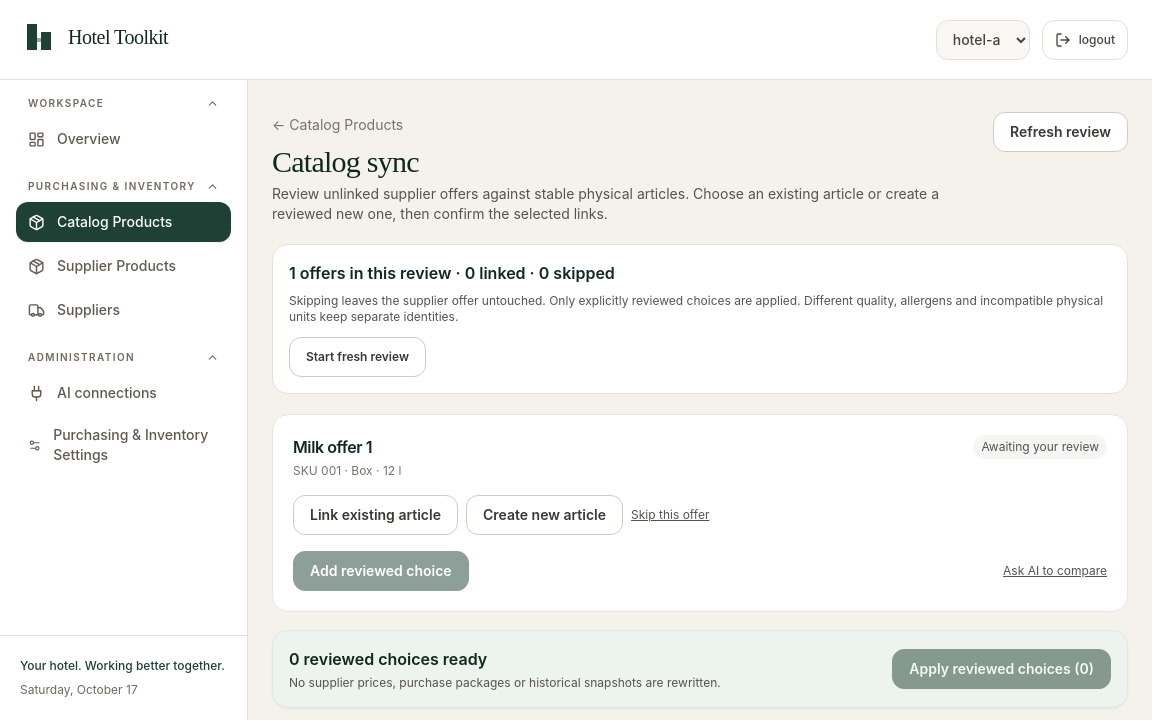
Test: skipping an offer changes no product and refreshing makes it available for review again
This screenshot has width=1152, height=720.
Expected: the heading "Milk offer 1" is shown, [293,437,372,457]
What coordinates should you click on to do the following:
click the button "Skip this offer"
I would click on:
 (670, 515)
Its box is [631,495,709,535].
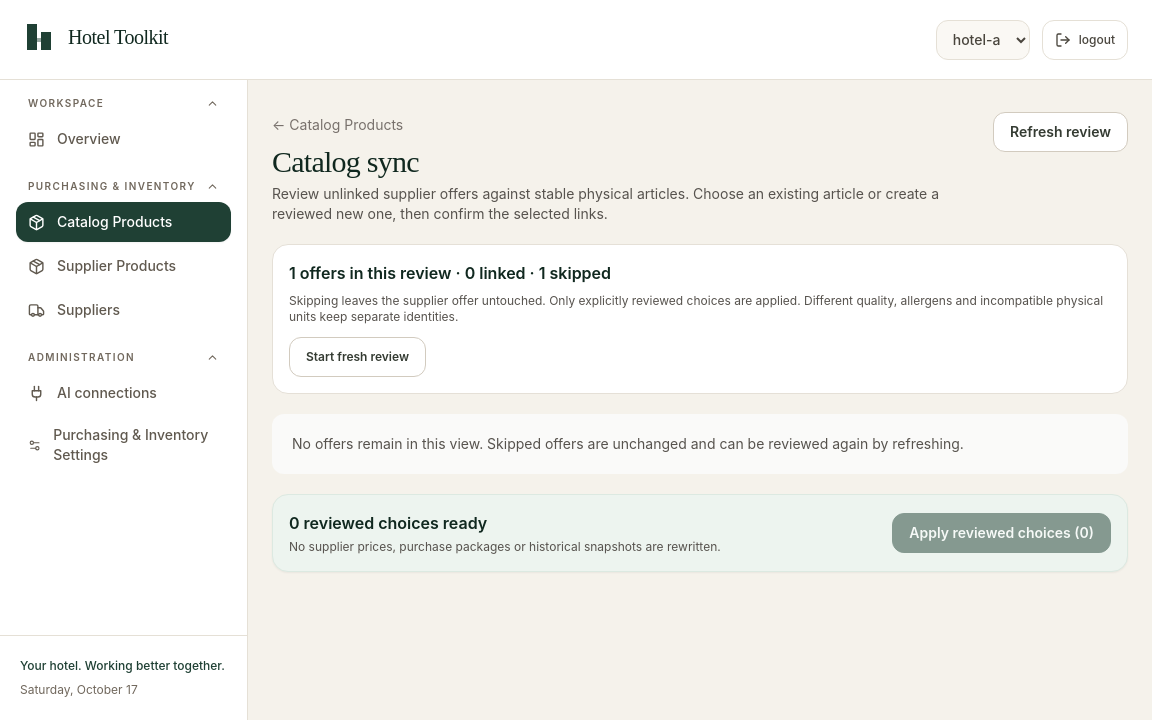
Expected: the heading "Milk offer 1" is gone
What coordinates should you click on to do the following:
click the button "Refresh review"
I would click on:
 (1060, 132)
Its box is [993,112,1128,152].
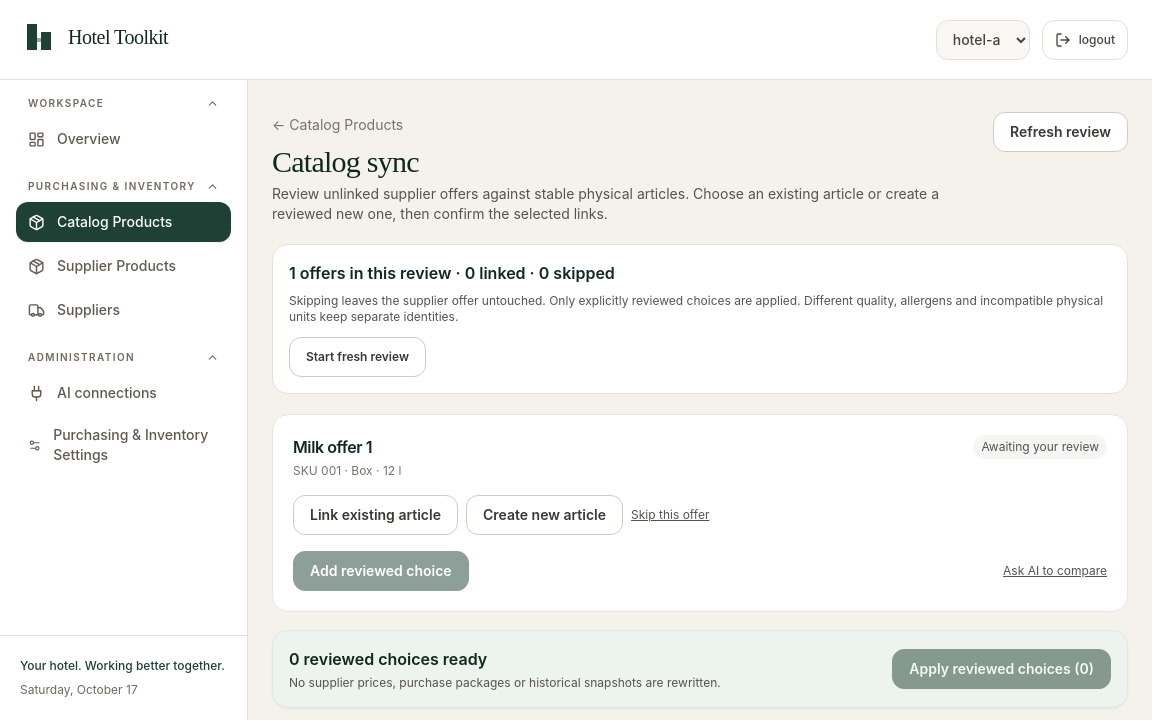
Expected: the heading "Milk offer 1" is shown, [293,437,372,457]
